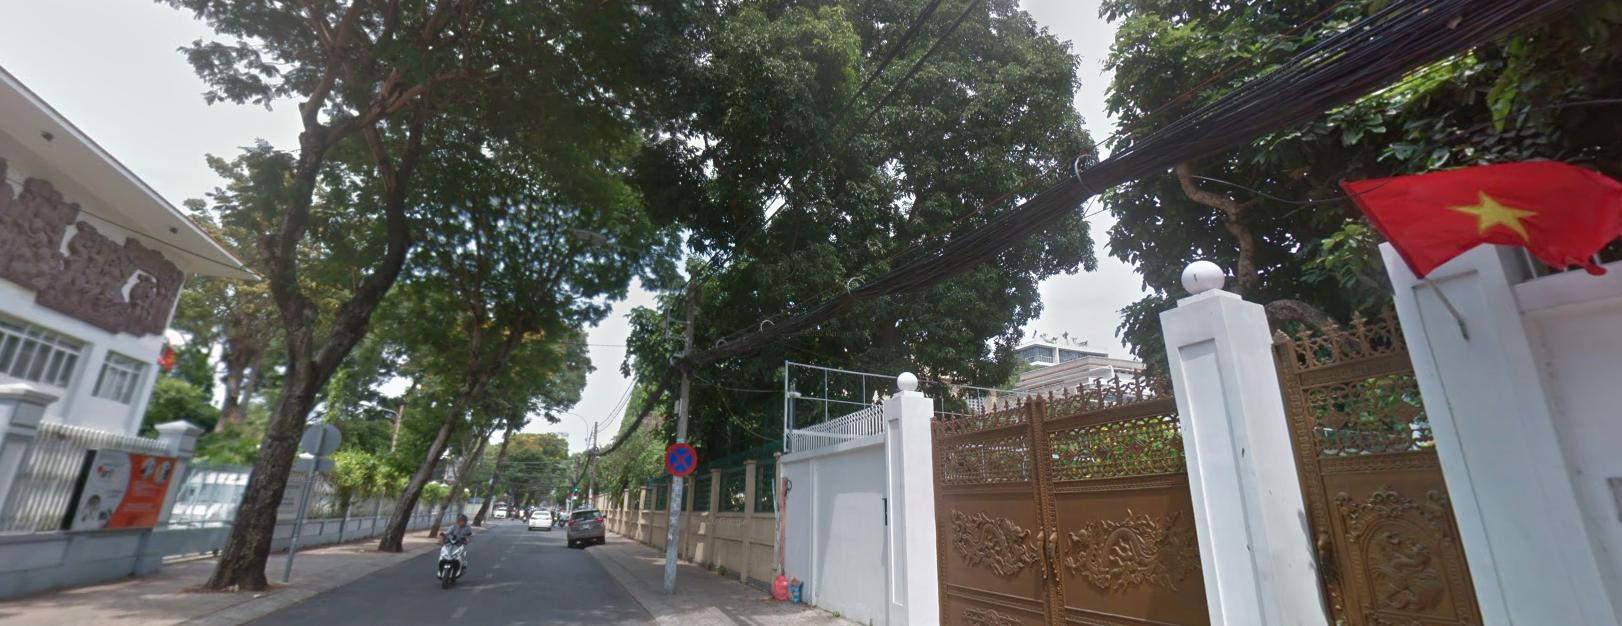Cam dung va do: (666, 441, 696, 474)
